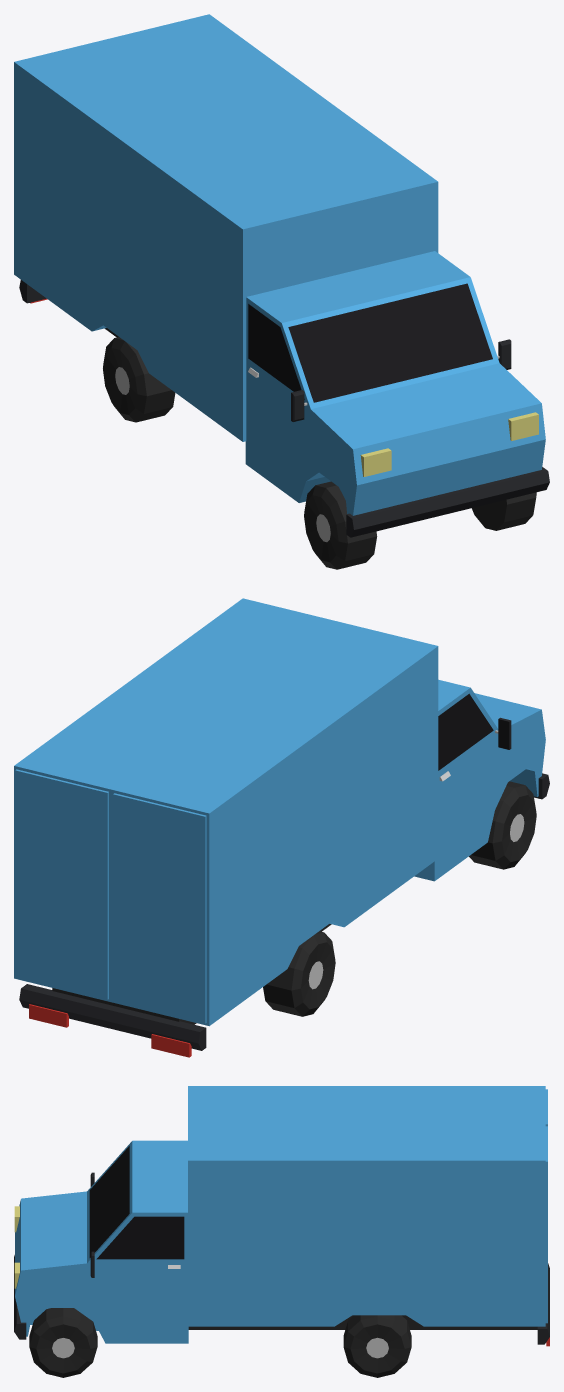
File: Small_Truck_03.fbx
3 renders of one model, top to bottom at view 1: azimuth 30°, elevation 25°; view 2: azimuth 150°, elevation 25°; view 3: azimuth 270°, elevation 25°, orthographic. The views are drawn at different scales.
Visible parts, largest first — view 1: Small_Truck_03; view 2: Small_Truck_03; view 3: Small_Truck_03.
Boxes of the visible parts, x1=… form: Small_Truck_03: x1=14, y1=14, x2=549, y2=569; Small_Truck_03: x1=14, y1=598, x2=549, y2=1057; Small_Truck_03: x1=14, y1=1086, x2=549, y2=1377.
Size of the model in its own units: 3.19 by 3.91 by 8.68.
